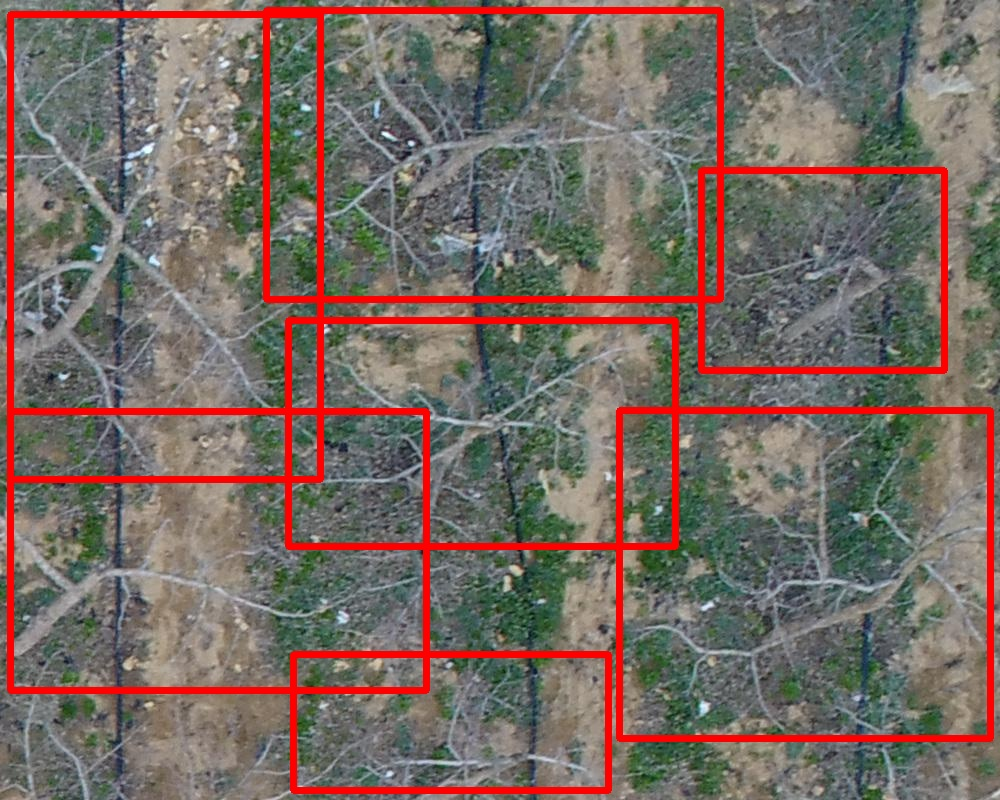apple: (10, 14, 320, 479), (266, 10, 720, 299), (619, 410, 990, 738), (10, 411, 426, 690), (288, 320, 675, 546), (701, 170, 944, 370), (293, 654, 608, 790)
